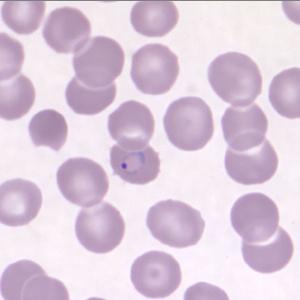Infected: (139, 115, 189, 156)
Uninfected: (94, 51, 153, 100), (37, 193, 90, 247), (85, 148, 137, 203), (174, 45, 225, 99), (175, 211, 227, 263), (189, 93, 243, 143), (119, 204, 169, 257), (22, 115, 76, 160), (118, 1, 169, 48), (7, 26, 60, 71), (20, 56, 68, 105), (208, 246, 256, 293), (145, 150, 191, 198), (32, 149, 78, 196), (257, 73, 300, 119), (183, 185, 233, 222), (232, 148, 270, 191), (122, 263, 168, 298), (265, 180, 299, 225)
